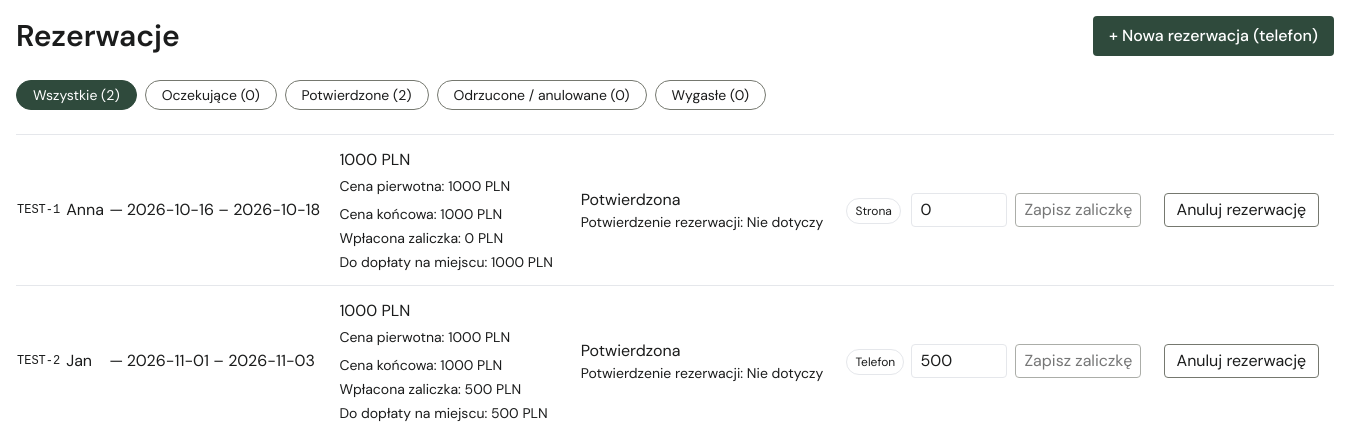
Scenario: admin deposit feedback › does not send an invalid amount -1
This screenshot has width=1351, height=439.
Check: the text "Anna" is shown, box [65,134,108,286]
Replace the text in the field named "Zaliczka Anna" with "-1" at (960,210), box [912,193,1008,227]
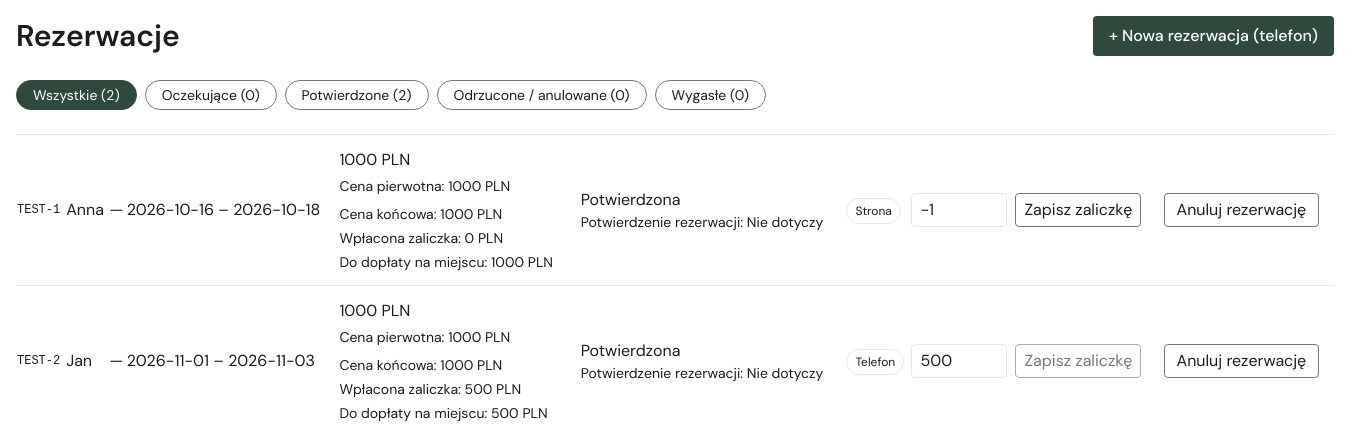
Click the button "Zapisz zaliczkę" in the row of "TEST-1" at (1078,210), box [1016,193,1141,227]
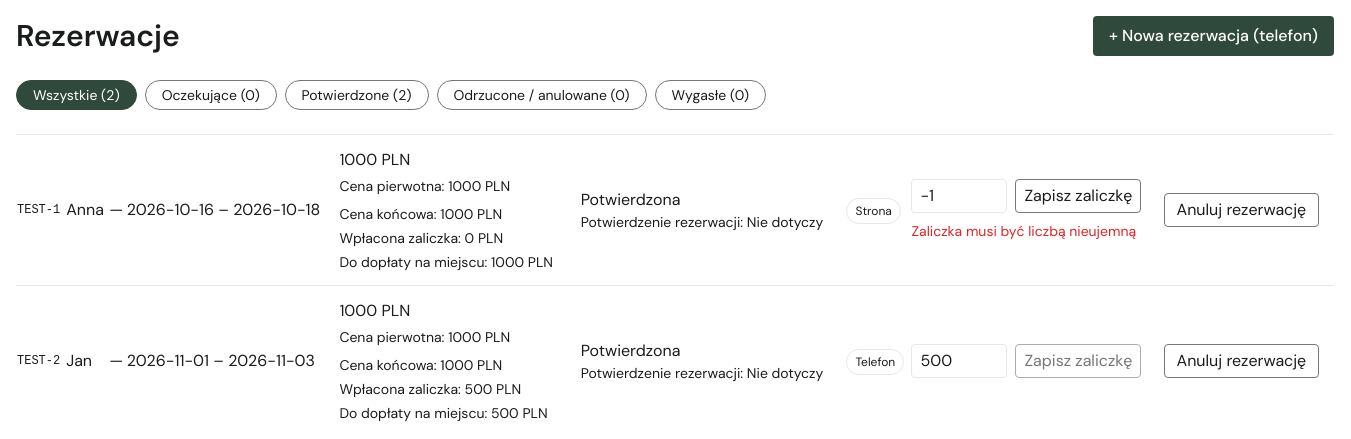
Check: the message reads "Zaliczka musi być liczbą nieujemną", box [912,222,1136,240]
